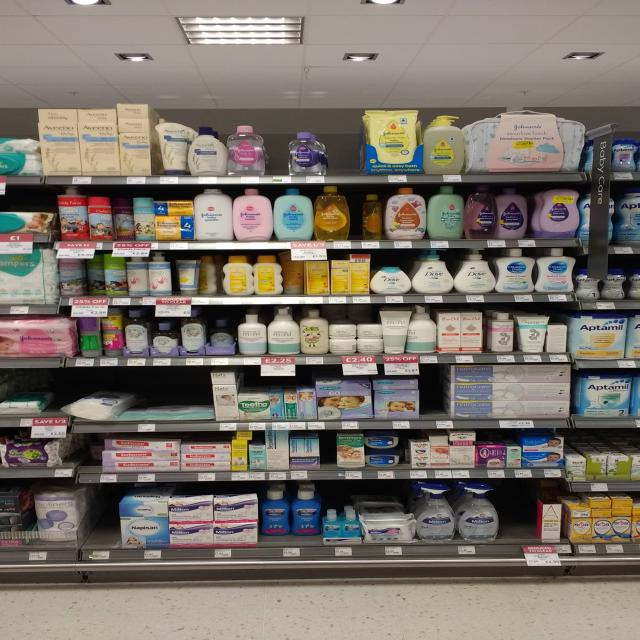void: (85, 486, 119, 561), (330, 109, 360, 184), (502, 481, 532, 556)
